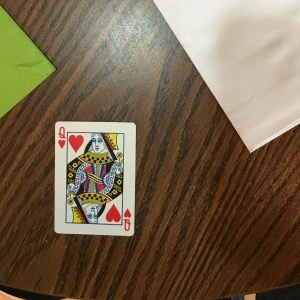card: (51, 120, 137, 236)
